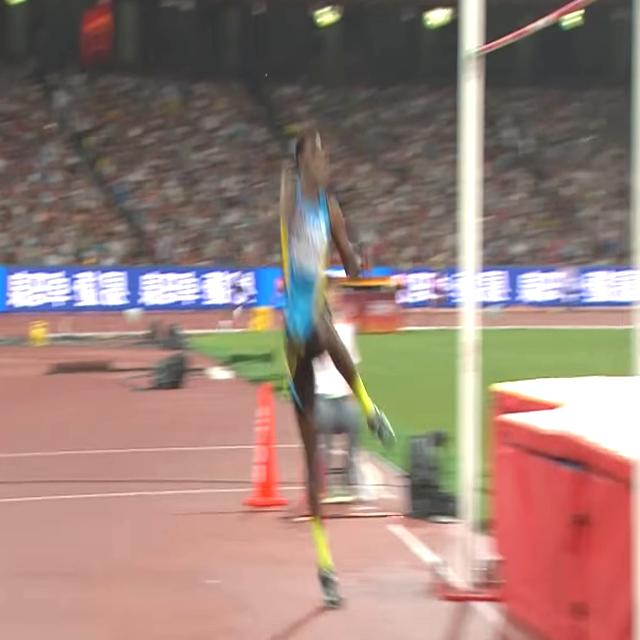jump: (276, 121, 397, 614)
